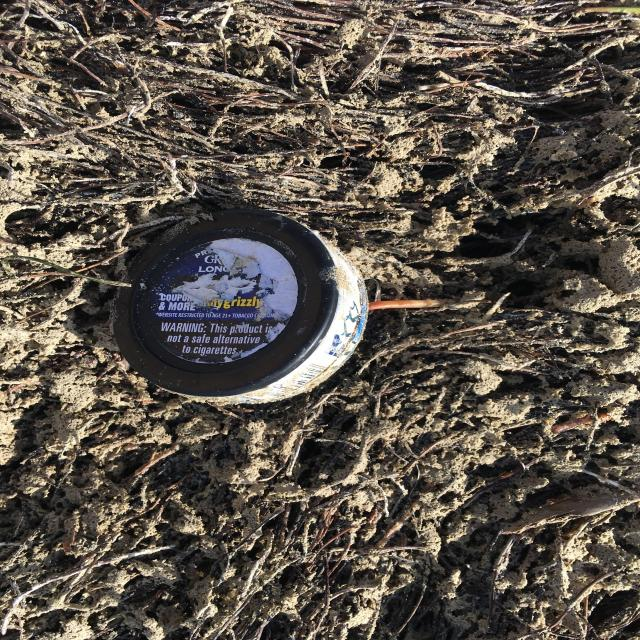litter: (112, 209, 368, 404)
